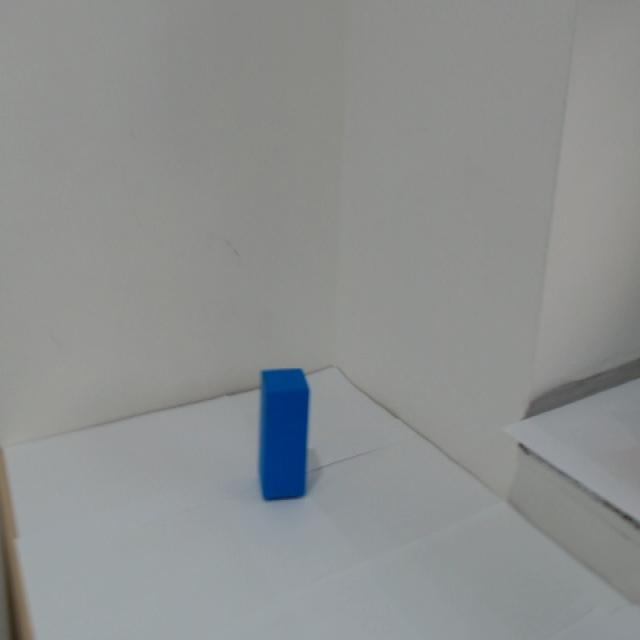cube: (245, 361, 312, 504)
